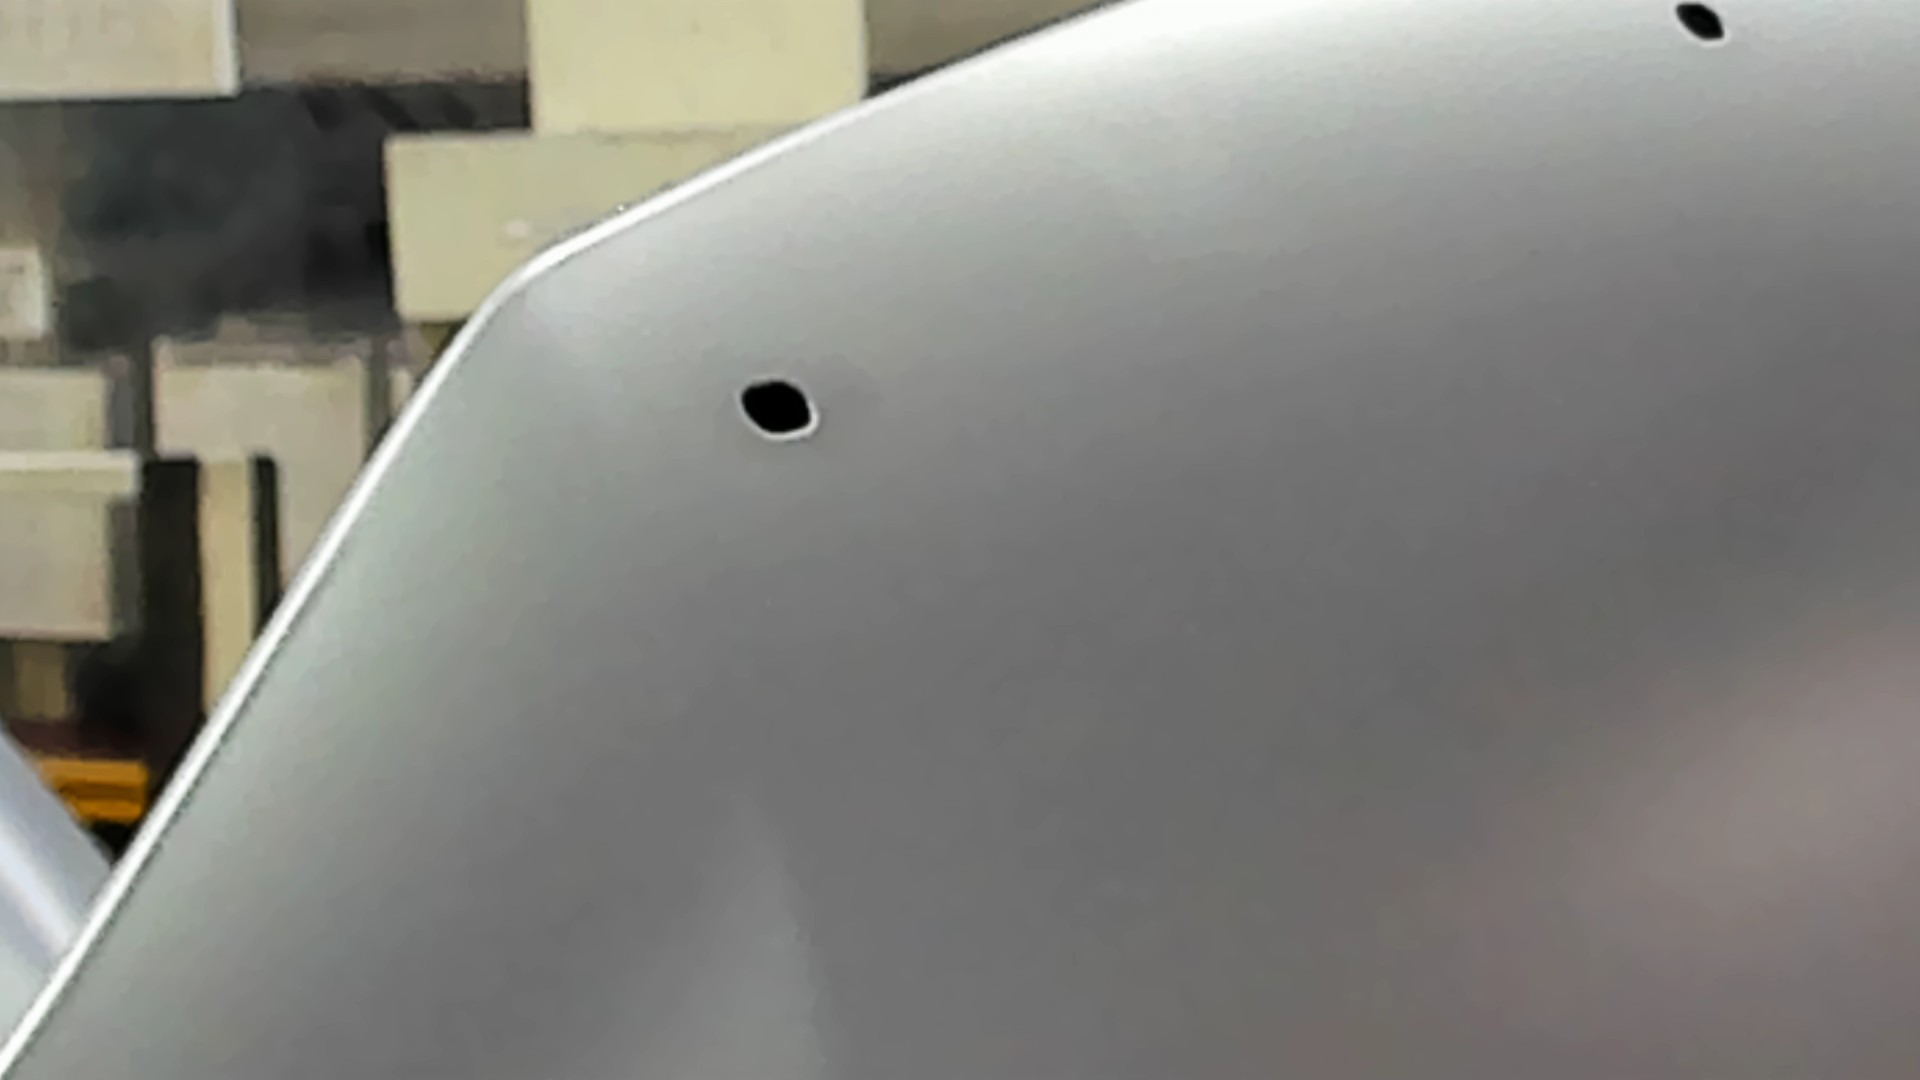amorfo: (732, 372, 820, 442), (1673, 1, 1730, 46)
capo: (955, 95, 1920, 1080)
